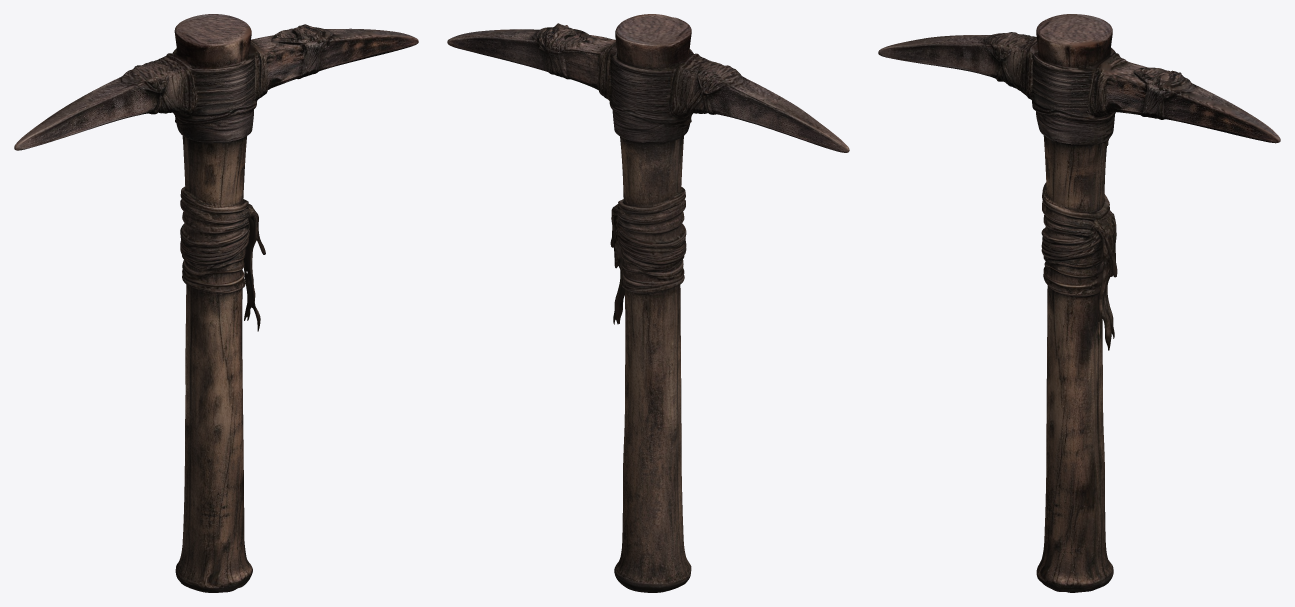
Rendered from esya_kazma.glb.
3 renders of one model, left to right at view 1: azimuth 30°, elevation 25°; view 2: azimuth 150°, elevation 25°; view 3: azimuth 330°, elevation 25°, orthographic.
Visible parts, largest first — view 1: material; view 2: material; view 3: material.
Part boxes in pixels (x1,y1,x2,y2): material: (14,14,418,592); material: (447,14,849,592); material: (878,14,1280,592).
Size of the model in its own units: 0.8406 by 1.1 by 0.1513.
1 material, 1 textured.
